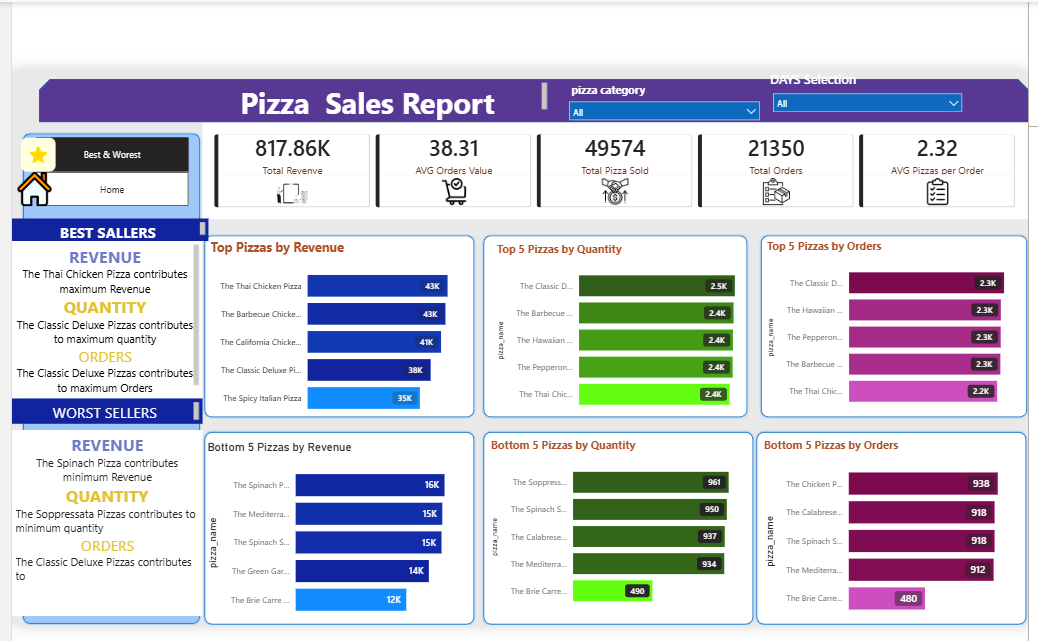

The page's visual inventory and layout, read from the dashboard file:
{"tool":"powerbi","page":{"name":"Best & Worest","canvas":[1500,820],"ordinal":1},"visuals":[{"type":"cardVisual","fields":{"Data":["measrure.Total Revenve","measrure.AVG Orders Value","measrure.Total Pizza Sold","measrure.Total Orders","measrure.AVG Pizzas per Order"]},"box":[281.3,78.3,1219.3,142.4],"z":0},{"type":"shape","box":[14.2,90.8,267,729.8],"z":1000},{"type":"shape","box":[39.2,14.2,1461.4,64.1],"z":2000},{"type":"textbox","box":[261.3,13.3,533.7,64.2],"z":3000},{"type":"shape","box":[281.3,240.3,404.1,274.1],"z":4000},{"type":"textbox","box":[0,219.2,290.1,33.2],"z":5000},{"type":"textbox","box":[0,252.5,281.3,232.5],"z":6000},{"type":"textbox","box":[0,531.5,281.3,274.6],"z":7000},{"type":"textbox","box":[0,485,281.3,37.6],"z":8000},{"type":"slicer","fields":{"Values":["public pizza_sales.pizza_category"]},"box":[812.8,13.3,301.2,64.2],"z":9000},{"type":"slicer","title":"DAYS Selection","fields":{"Values":["public pizza_sales.Order Day"]},"box":[1113.9,0,299,77.5],"z":10000},{"type":"shape","box":[694.2,240.3,395.2,274.1],"z":11000},{"type":"shape","box":[1101.9,240.3,398.7,274.1],"z":12000},{"type":"shape","box":[281.3,530.5,404.1,290.2],"z":13000},{"type":"shape","box":[694.2,530.5,404.1,290.2],"z":14000},{"type":"shape","box":[1096.5,530.5,404.1,290.2],"z":15000},{"type":"barChart","title":"Top Pizzas by Revenue","fields":{"Category":["public pizza_sales.pizza_name"],"Y":["measrure.Total Revenve"]},"box":[290.1,248,403.1,274.6],"z":16000},{"type":"barChart","title":"Bottom 5 Pizzas by Revenue","fields":{"Category":["public pizza_sales.pizza_name"],"Y":["measrure.Total Revenve"]},"box":[283,546.5,402.3,274.1],"z":17000},{"type":"barChart","title":"Top 5 Pizzas by Quantity","fields":{"Category":["public pizza_sales.pizza_name"],"Y":["measrure.Total Pizza Sold"]},"box":[710.9,252.5,385.3,263.5],"z":18000},{"type":"barChart","title":"Bottom 5 Pizzas by Quantity","fields":{"Category":["public pizza_sales.pizza_name"],"Y":["measrure.Total Pizza Sold"]},"box":[702,542.6,385.3,263.5],"z":19000},{"type":"barChart","title":"Top 5 Pizzas by Orders","fields":{"Category":["public pizza_sales.pizza_name"],"Y":["measrure.Total Orders"]},"box":[1109.5,248,385.3,263.5],"z":20000},{"type":"barChart","title":"Bottom 5 Pizzas by Orders","fields":{"Category":["public pizza_sales.pizza_name"],"Y":["measrure.Total Orders"]},"box":[1105.1,542.6,385.3,276.8],"z":21000},{"type":"pageNavigator","box":[35.4,99.7,225.9,50.9],"z":22000},{"type":"pageNavigator","box":[35.4,150.6,225.9,50.9],"z":23000},{"type":"image","box":[11.1,99.7,55.4,50.9],"z":24000},{"type":"image","box":[0,150.6,66.4,50.9],"z":25000}]}

Visuals, with their boxes on the page's 1500x820 design canvas (x1, y1, x2, y2). These are canvas units, not pixel positions in the 1038x641 screenshot, which may show the page scaled, cropped or inside an application window:
cardVisual - measrure.Total Revenve x measrure.AVG Orders Value: x1=281 y1=78 x2=1501 y2=221
shape: x1=14 y1=91 x2=281 y2=821
shape: x1=39 y1=14 x2=1501 y2=78
textbox: x1=261 y1=13 x2=795 y2=78
shape: x1=281 y1=240 x2=685 y2=514
textbox: x1=0 y1=219 x2=290 y2=252
textbox: x1=0 y1=252 x2=281 y2=485
textbox: x1=0 y1=532 x2=281 y2=806
textbox: x1=0 y1=485 x2=281 y2=523
slicer - public pizza_sales.pizza_category: x1=813 y1=13 x2=1114 y2=78
"DAYS Selection" slicer: x1=1114 y1=0 x2=1413 y2=78
shape: x1=694 y1=240 x2=1089 y2=514
shape: x1=1102 y1=240 x2=1501 y2=514
shape: x1=281 y1=530 x2=685 y2=821
shape: x1=694 y1=530 x2=1098 y2=821
shape: x1=1096 y1=530 x2=1501 y2=821
"Top Pizzas by Revenue" barChart: x1=290 y1=248 x2=693 y2=523
"Bottom 5 Pizzas by Revenue" barChart: x1=283 y1=546 x2=685 y2=821
"Top 5 Pizzas by Quantity" barChart: x1=711 y1=252 x2=1096 y2=516
"Bottom 5 Pizzas by Quantity" barChart: x1=702 y1=543 x2=1087 y2=806
"Top 5 Pizzas by Orders" barChart: x1=1110 y1=248 x2=1495 y2=512
"Bottom 5 Pizzas by Orders" barChart: x1=1105 y1=543 x2=1490 y2=819
pageNavigator: x1=35 y1=100 x2=261 y2=151
pageNavigator: x1=35 y1=151 x2=261 y2=202
image: x1=11 y1=100 x2=66 y2=151
image: x1=0 y1=151 x2=66 y2=202
